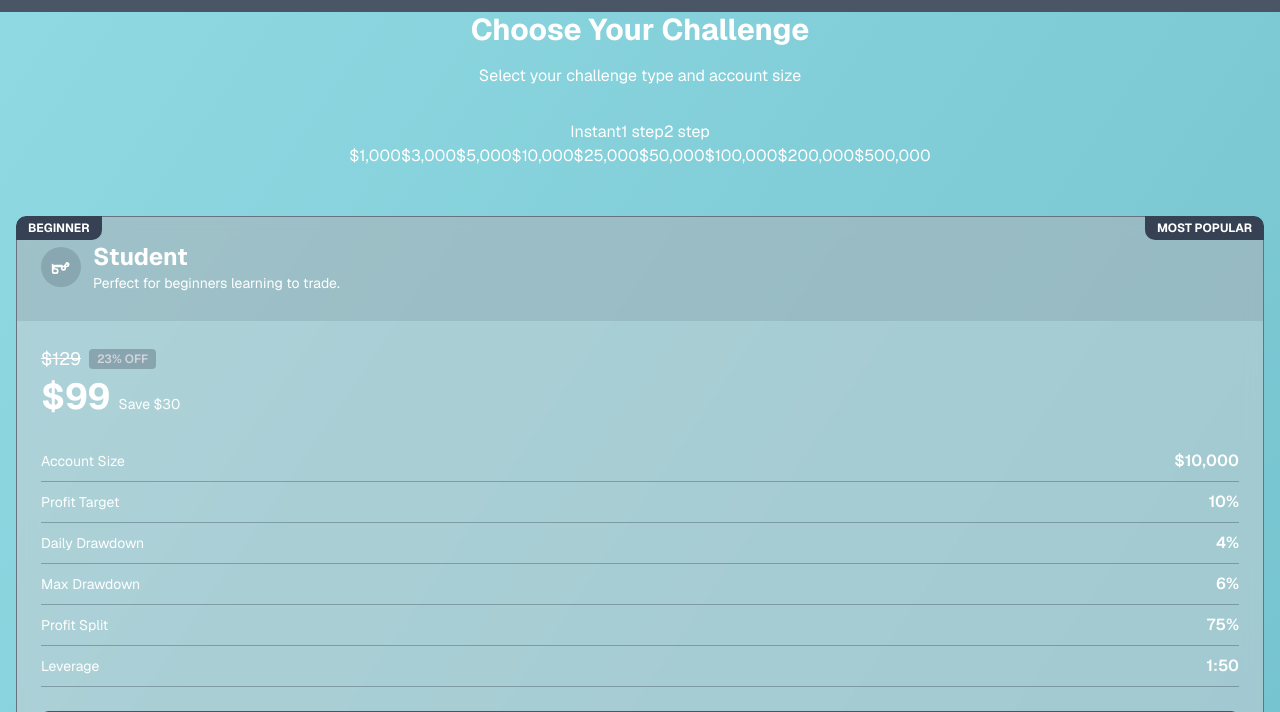
Test: EnhancedPricingCards › changes the displayed challenges when a different account size is selected
This screenshot has width=1280, height=712.
Note: Click on a different account size
Click the button "$25,000".
click(606, 156)  # box [574,144,639,168]
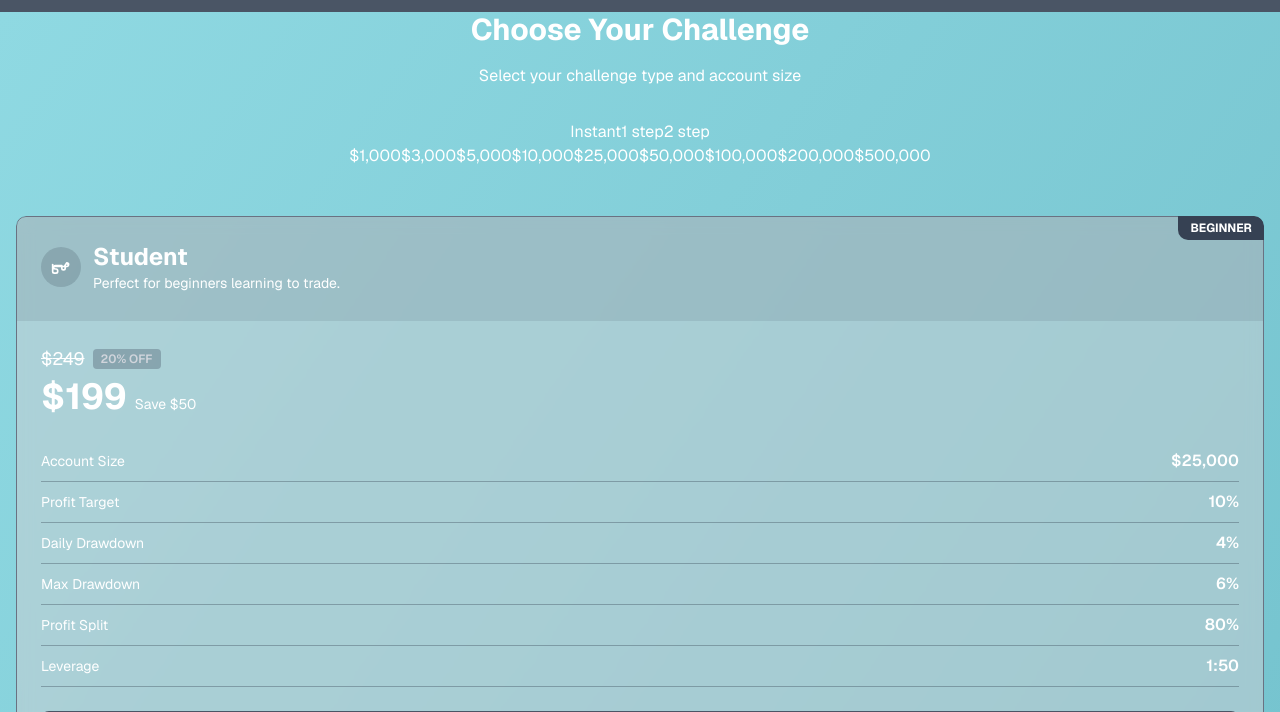
Check: the heading "Student" is shown, box [93,241,188,272]
Check: the text "80%" is shown, box [1205,613,1239,637]
